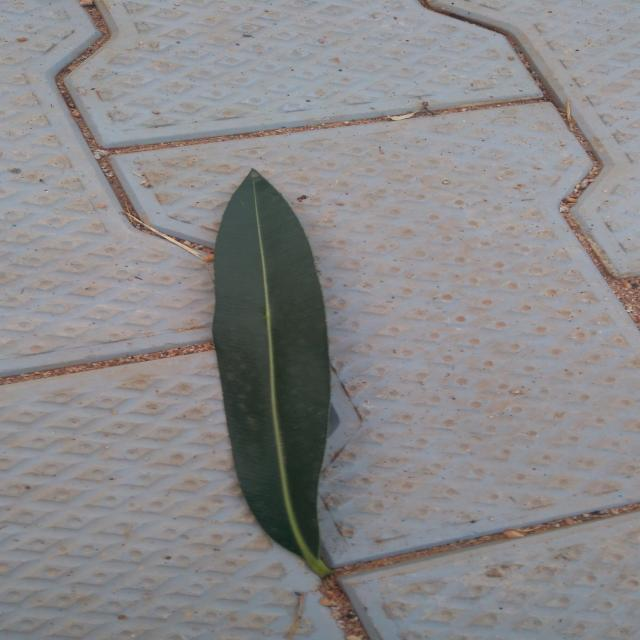ganigale: (213, 170, 331, 578)
